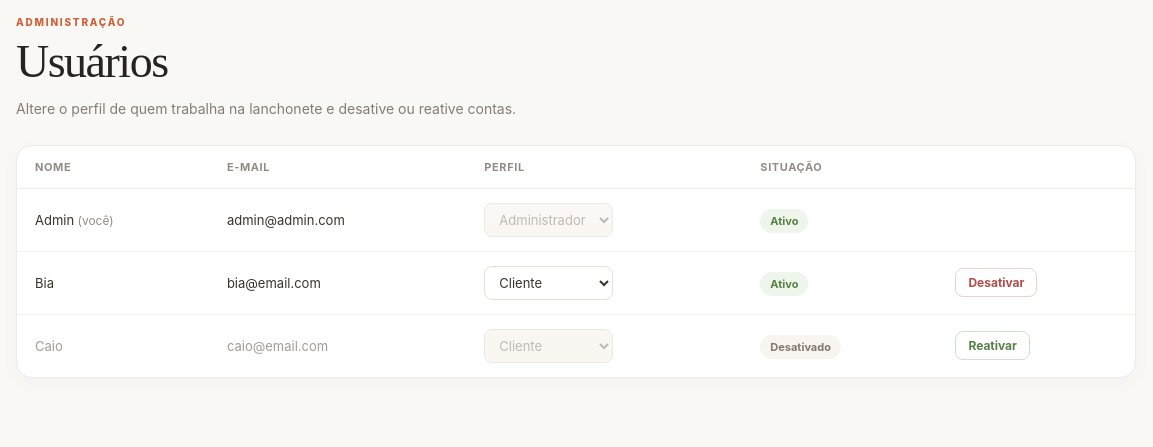
Test: AdminUsuarios › mostra a mensagem do backend quando a ação é recusada e mantém a linha
Select "Administrador" in the dropdown named "Perfil de Bia" at (549, 283), box [484,266,613,300]
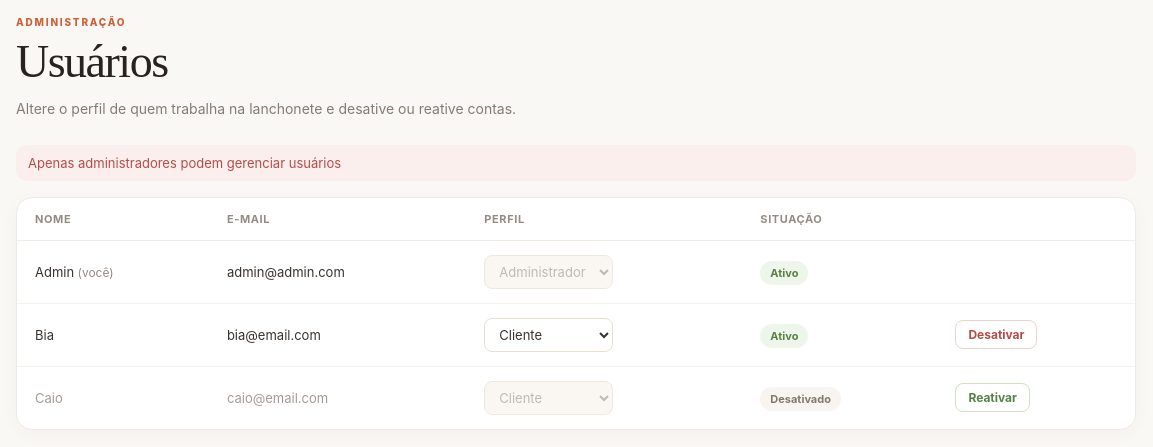
Expected: the message shows "Apenas administradores", [28,155,341,171]
